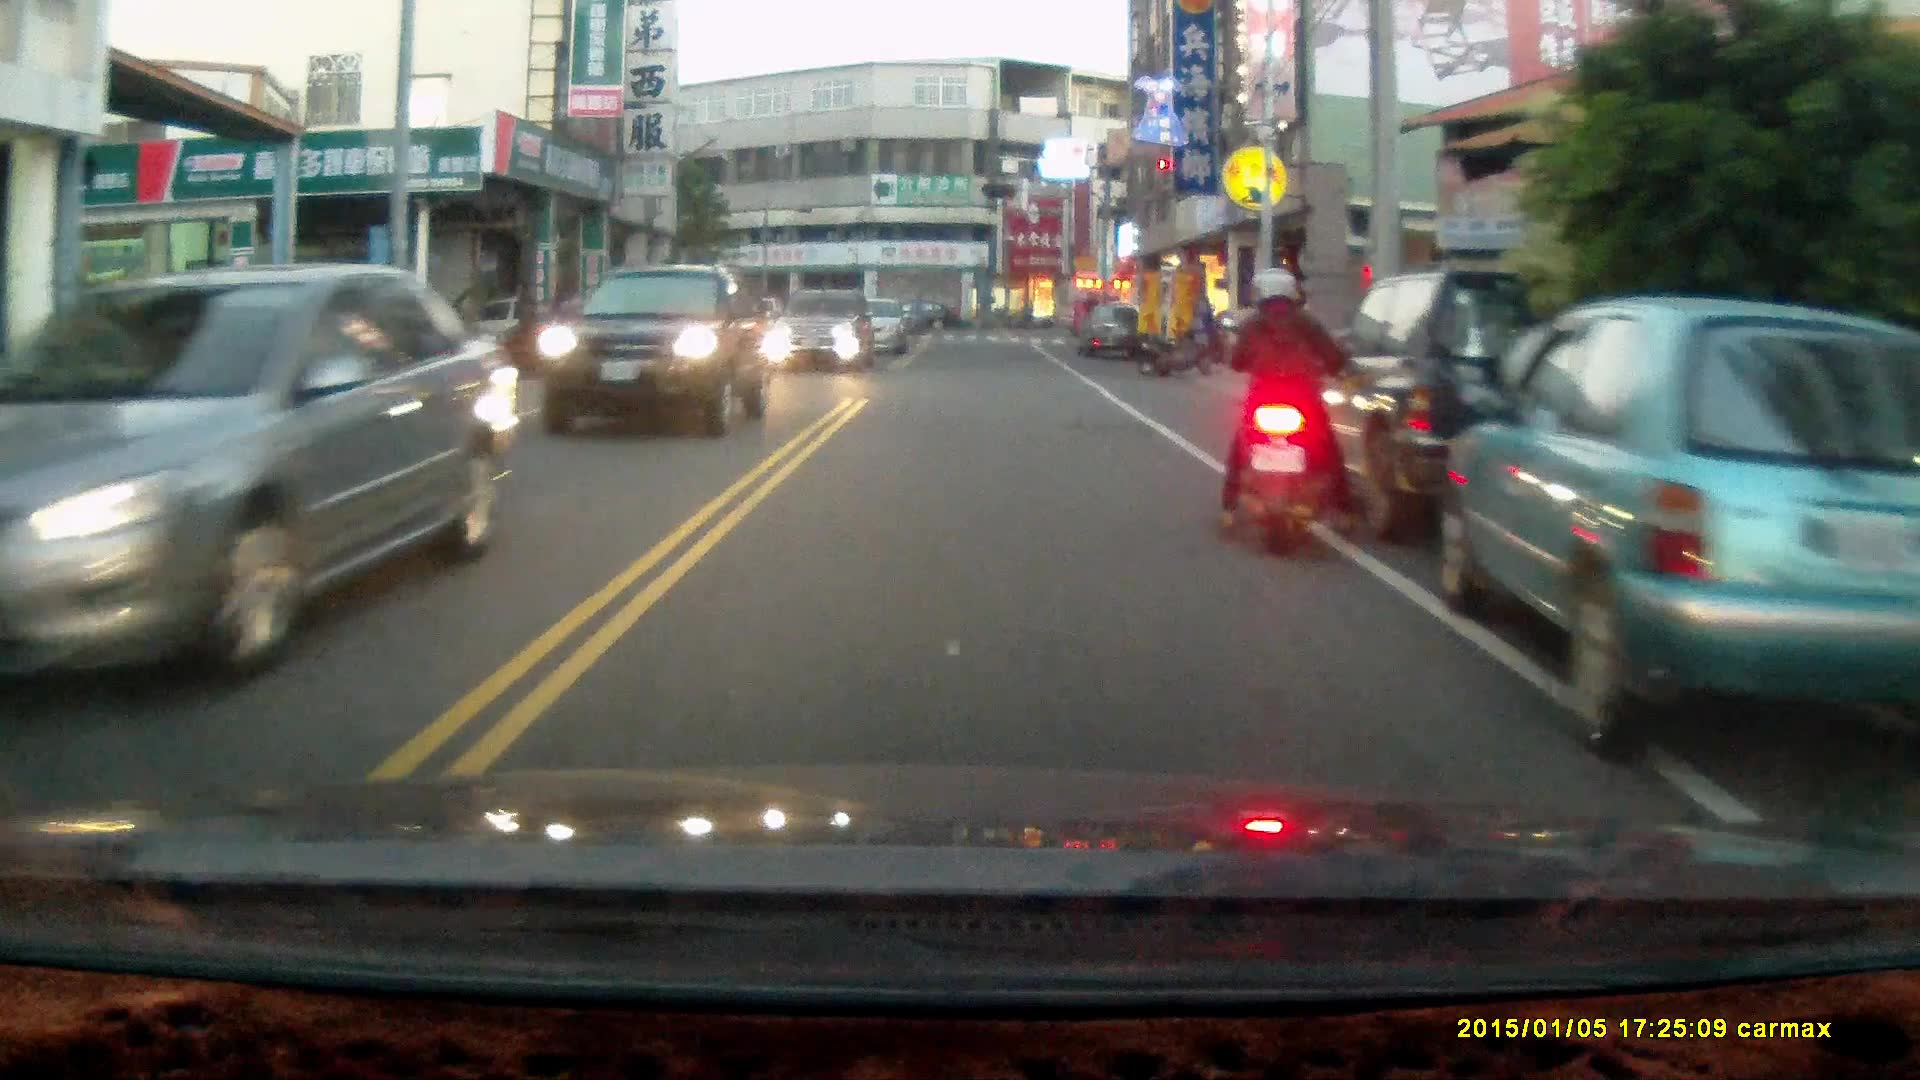rider: (1213, 262, 1360, 560)
vehicle: (1, 259, 544, 693), (1440, 294, 1905, 766), (1268, 267, 1663, 545), (537, 258, 759, 428), (762, 285, 882, 371), (1075, 302, 1145, 360)
